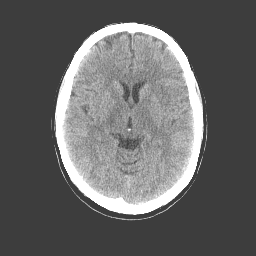ischemic: (155, 75, 185, 118)
